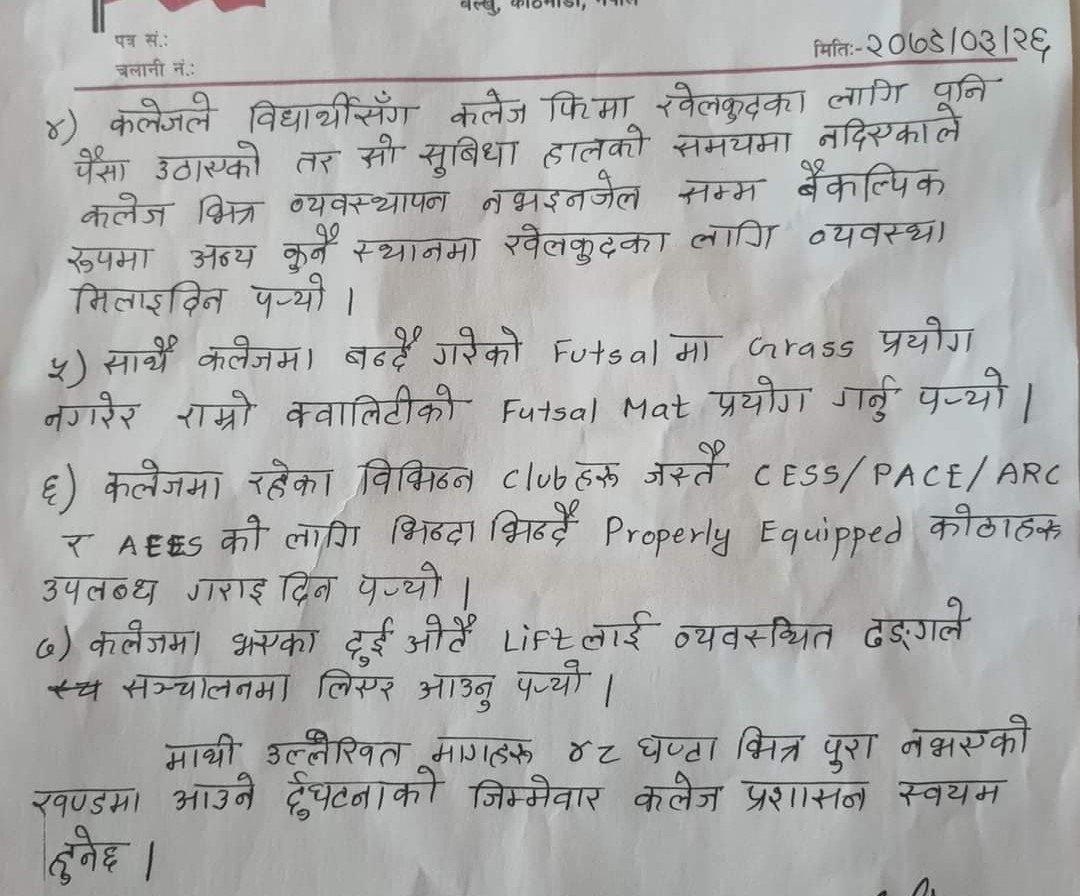text: (284, 380, 462, 430), (479, 166, 641, 218), (791, 154, 948, 206), (285, 770, 444, 821), (862, 18, 1055, 59), (501, 221, 672, 266), (244, 87, 421, 130), (816, 103, 961, 153), (654, 79, 814, 124), (900, 713, 1034, 766), (469, 770, 606, 819), (67, 278, 229, 319), (672, 614, 836, 654), (99, 455, 227, 506), (120, 671, 294, 708), (264, 727, 405, 772), (862, 594, 969, 653), (926, 499, 1065, 543), (289, 185, 453, 220), (802, 215, 953, 253), (741, 775, 873, 817), (87, 619, 207, 664), (195, 334, 316, 377), (151, 138, 264, 184), (108, 87, 215, 135), (361, 454, 476, 498), (709, 373, 812, 421), (46, 824, 127, 885), (416, 133, 521, 180), (915, 367, 1009, 418), (631, 768, 725, 819), (429, 320, 522, 371), (638, 435, 724, 490), (540, 126, 654, 167), (39, 570, 162, 608), (429, 727, 540, 768), (27, 781, 145, 819), (169, 768, 260, 817), (41, 392, 139, 437), (668, 125, 795, 159), (881, 314, 980, 357), (894, 772, 1011, 808), (341, 324, 425, 374), (244, 459, 339, 503), (491, 501, 586, 545), (689, 212, 786, 255), (355, 559, 445, 605), (78, 190, 172, 234), (348, 237, 488, 265), (245, 271, 328, 318), (278, 219, 345, 277), (414, 672, 498, 718), (62, 240, 155, 279), (185, 566, 267, 610), (447, 87, 528, 131), (101, 333, 180, 378), (401, 614, 480, 659), (580, 608, 656, 654), (160, 731, 239, 775), (228, 626, 321, 663), (546, 88, 632, 128), (635, 728, 722, 767), (179, 387, 257, 430), (833, 371, 896, 424), (674, 173, 767, 208), (388, 512, 480, 547), (282, 514, 368, 551), (515, 660, 588, 703), (738, 720, 805, 766), (314, 661, 394, 699), (820, 730, 880, 773), (344, 617, 395, 667), (193, 191, 261, 228), (74, 145, 134, 186), (275, 566, 336, 606), (215, 515, 264, 559), (188, 243, 259, 272), (564, 737, 624, 771), (353, 131, 400, 174), (571, 457, 620, 494), (671, 332, 720, 365), (293, 150, 339, 177), (56, 528, 94, 559), (35, 466, 64, 506), (42, 355, 78, 381), (40, 111, 67, 140)
